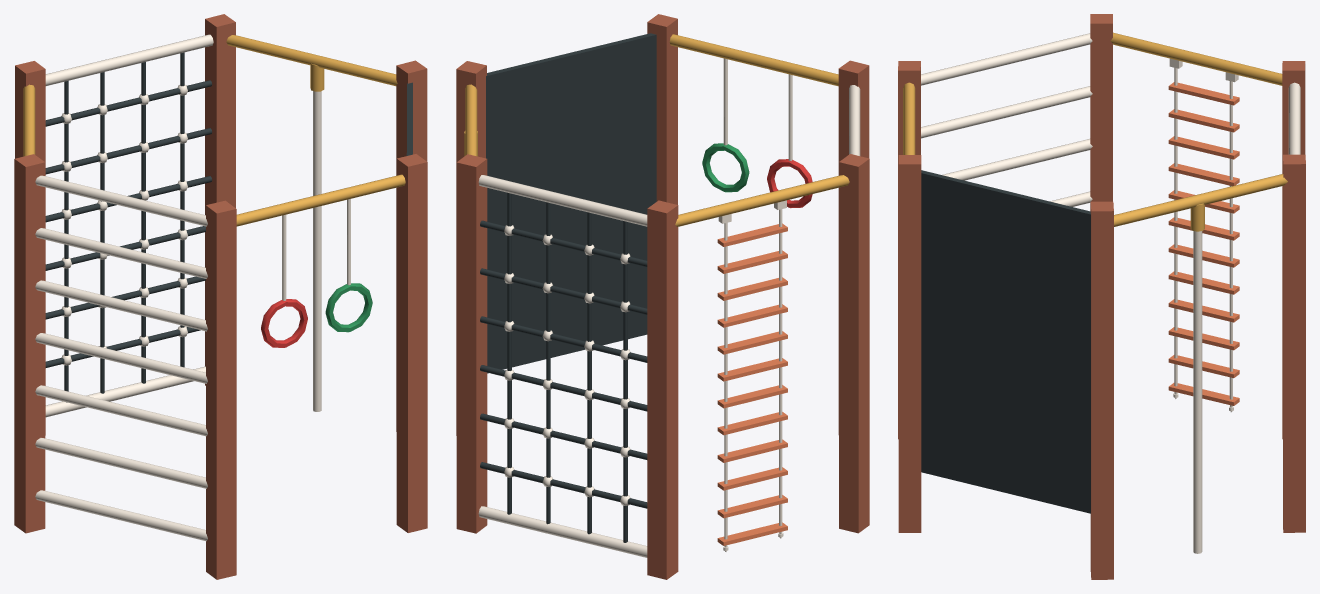
Rendered from ClimbingFrame_02.fbx.
The picture shows the model from 3 angles, left to right: view 1: azimuth 30°, elevation 25°; view 2: azimuth 150°, elevation 25°; view 3: azimuth 270°, elevation 25°; orthographic projection.
Parts seen in each view (by area): view 1: ClimbingFrame_02; view 2: ClimbingFrame_02; view 3: ClimbingFrame_02.
Part boxes in pixels (bbox=[...]): ClimbingFrame_02: bbox=[14, 14, 427, 579]; ClimbingFrame_02: bbox=[456, 14, 869, 579]; ClimbingFrame_02: bbox=[898, 14, 1305, 579].
Bounding box in the file's own units: 2.72 × 2.37 × 2.38.
